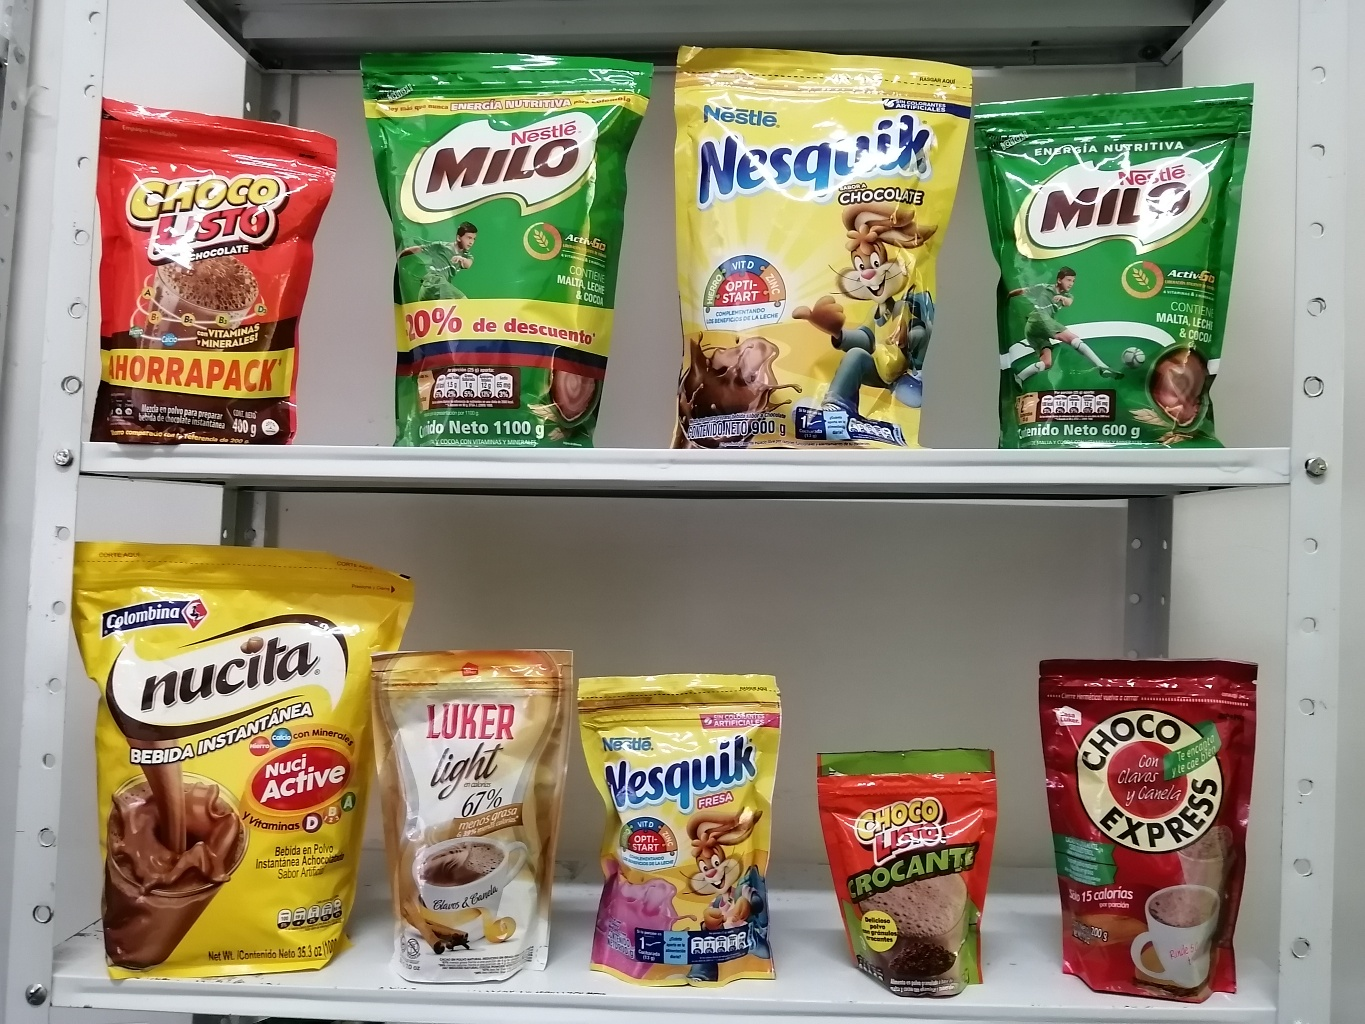COL0170102DYP10000: (817, 742, 1026, 1000)
COL0170103DYP40000: (101, 91, 346, 441)
COL0170305DYP20000: (577, 678, 810, 1000)
